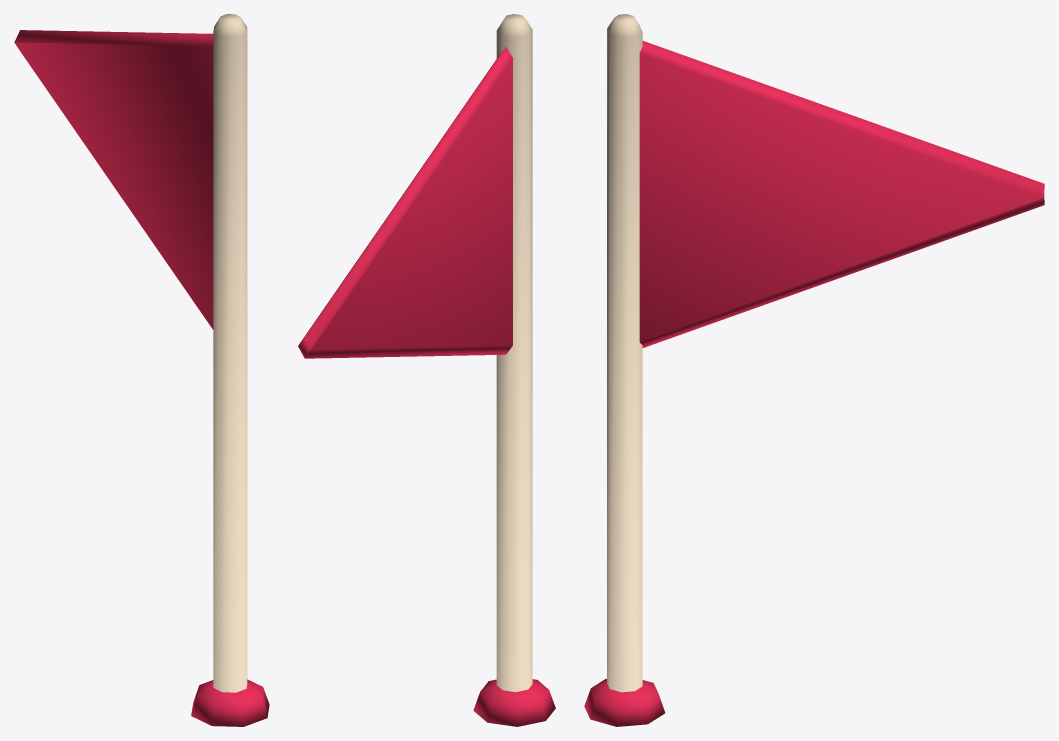
File: house_flag_a02.glb
The picture shows the model from 3 angles, left to right: view 1: azimuth 30°, elevation 25°; view 2: azimuth 150°, elevation 25°; view 3: azimuth 270°, elevation 25°; orthographic projection.
Visible parts, largest first — view 1: Cylinder.055; view 2: Cylinder.055; view 3: Cylinder.055.
Part boxes in pixels (x1,y1,x2,y2): Cylinder.055: [14, 14, 269, 726]; Cylinder.055: [298, 14, 555, 726]; Cylinder.055: [584, 14, 1044, 726].
Bounding box in the file's own units: 0.3444 × 3.23 × 1.95.
